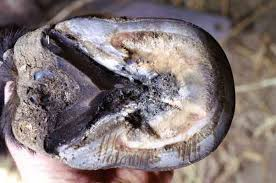horsesole: (39, 16, 236, 171)
